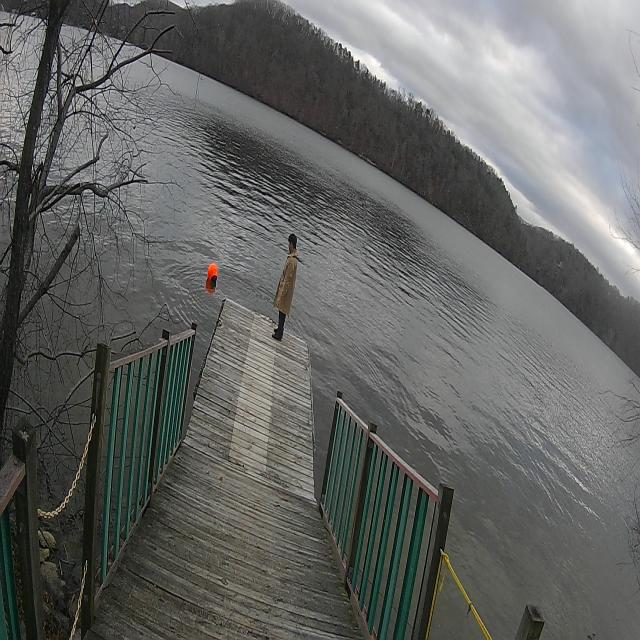Buoy: (207, 263, 219, 292)
